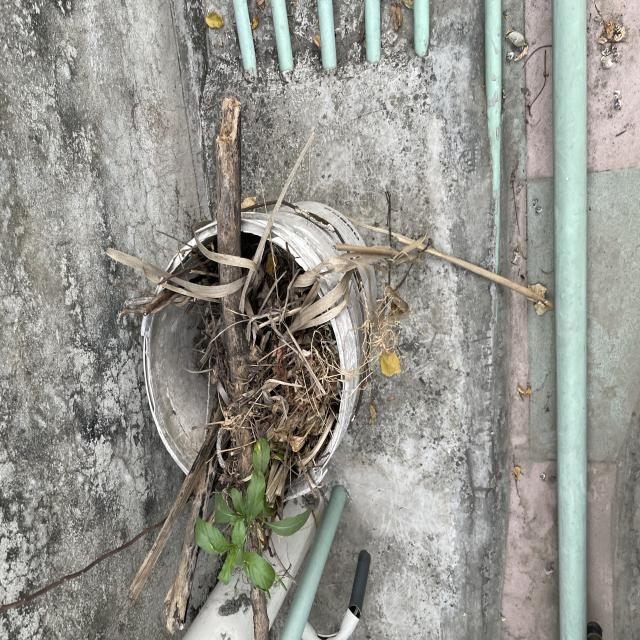Breeding Place: (150, 202, 378, 508)
